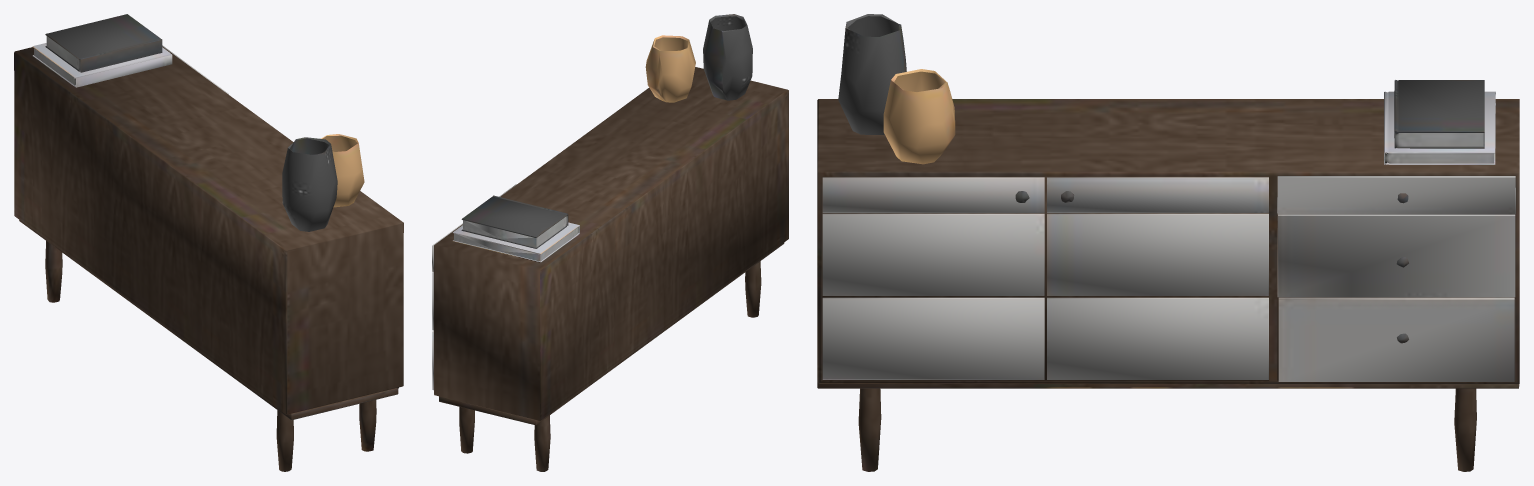
Rendered from Cupboard0004.obj.
3 views of the same model, side by side, from view 1: azimuth 30°, elevation 25°; view 2: azimuth 150°, elevation 25°; view 3: azimuth 270°, elevation 25° (orthographic). The views are drawn at different scales.
Bounding box in the file's own units: 0.388 × 0.93 × 1.45.
Materials: 1 (1 with a texture image).
